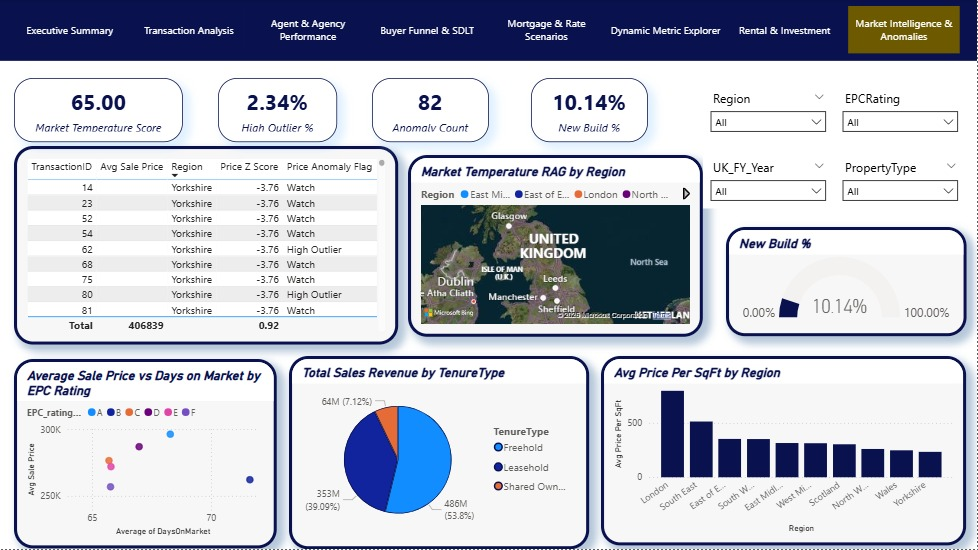

Layout of this report page (visuals, bound fields, positions):
{"tool":"powerbi","page":{"name":"Market Intelligence & Anomalies","canvas":[1280,720],"ordinal":7},"visuals":[{"type":"shape","box":[0,0,1280,81],"z":0},{"type":"card","fields":{"Values":["Tbl_Measures.Market Temperature Score"]},"box":[18.7,102.8,221.1,84.1],"z":1000},{"type":"card","fields":{"Values":["Tbl_Measures.High Outlier %"]},"box":[285,102.8,155.7,84.1],"z":2000},{"type":"clusteredColumnChart","fields":{"Y":["Tbl_Measures.Avg Price Per SqFt"],"Category":["DIM_Property.Region"]},"box":[786.4,467.2,478.1,247.6],"z":3000},{"type":"scatterChart","title":"Average Sale Price vs Days on Market by EPC Rating","fields":{"X":["Avg(FACT_Transactions.DaysOnMarket)"],"Y":["Tbl_Measures.Avg Sale Price"],"Series":["DIM_Property.EPC_rating_sorted"]},"box":[18.7,471.8,344.1,247.6],"z":4000},{"type":"filledMap","fields":{"Series":["DIM_Property.Region"]},"box":[534.1,204,386.2,238.2],"z":5000},{"type":"pieChart","fields":{"Category":["DIM_Property.TenureType"],"Y":["Tbl_Measures.Total Sales Revenue"]},"box":[378.3,467.3,392.7,252.7],"z":6000},{"type":"pageNavigator","box":[18.7,9.3,1244.2,62.3],"z":7000},{"type":"tableEx","fields":{"Values":["FACT_Transactions.TransactionID","Tbl_Measures.Avg Sale Price","DIM_Property.Region","Tbl_Measures.Price Z Score","FACT_Transactions.Price Anomaly Flag"]},"box":[18.7,193.1,503,260],"z":8000},{"type":"card","fields":{"Values":["Tbl_Measures.Anomaly Count"]},"box":[487.4,102.8,152.6,84.1],"z":9000},{"type":"card","fields":{"Values":["Tbl_Measures.New Build %"]},"box":[694.5,102.8,152.6,84.1],"z":10000},{"type":"gauge","fields":{"Y":["Tbl_Measures.New Build %"]},"box":[949.9,299,314.5,143.3],"z":11000},{"type":"slicer","fields":{"Values":["DIM_Property.Region"]},"box":[920.3,113.7,171.3,73.2],"z":12000},{"type":"slicer","fields":{"Values":["DIM_Calendar.UK_FY_Year"]},"box":[920.3,204,171.3,70.1],"z":13000},{"type":"slicer","fields":{"Values":["DIM_Property.EPCRating"]},"box":[1093.1,113.7,171.3,73.2],"z":14000},{"type":"slicer","fields":{"Values":["DIM_Property.PropertyType"]},"box":[1093.1,204,171.3,73.2],"z":15000}]}

Visuals, with their boxes in screenshot pixels (x1, y1, x2, y2), scaled from the page's 1280x720 canvas onto the 978x550 screenshot:
shape: 0 0 977 62
card - Tbl_Measures.Market Temperature Score: 14 79 183 143
card - Tbl_Measures.High Outlier %: 218 79 337 143
clusteredColumnChart - Tbl_Measures.Avg Price Per SqFt x DIM_Property.Region: 601 357 966 546
"Average Sale Price vs Days on Market by EPC Rating" scatterChart: 14 360 277 549
filledMap - DIM_Property.Region: 408 156 703 338
pieChart - DIM_Property.TenureType x Tbl_Measures.Total Sales Revenue: 289 357 589 549
pageNavigator: 14 7 965 55
tableEx - FACT_Transactions.TransactionID x Tbl_Measures.Avg Sale Price: 14 148 399 346
card - Tbl_Measures.Anomaly Count: 372 79 489 143
card - Tbl_Measures.New Build %: 531 79 647 143
gauge - Tbl_Measures.New Build %: 726 228 966 338
slicer - DIM_Property.Region: 703 87 834 143
slicer - DIM_Calendar.UK_FY_Year: 703 156 834 209
slicer - DIM_Property.EPCRating: 835 87 966 143
slicer - DIM_Property.PropertyType: 835 156 966 212
